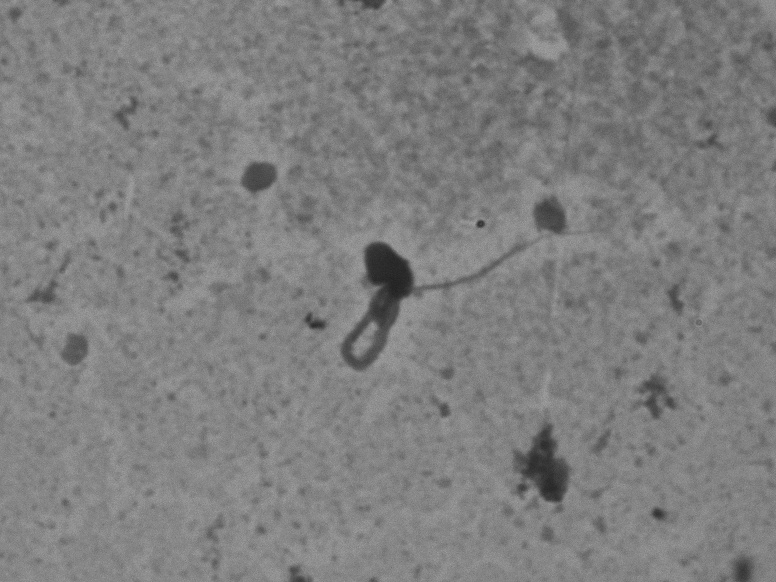Abnormal: (302, 198, 668, 375)
